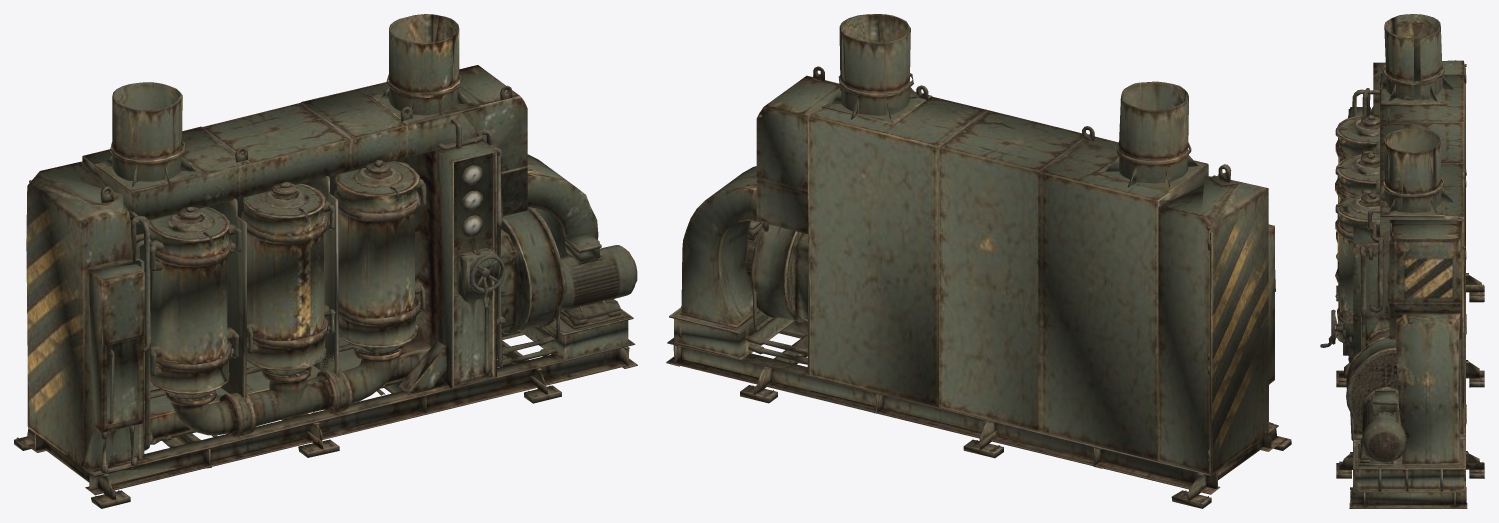
Rendered from reactor-air-filtration-unit.glb.
3 views of the same model, side by side, from view 1: azimuth 30°, elevation 25°; view 2: azimuth 150°, elevation 25°; view 3: azimuth 270°, elevation 25° (orthographic). The views are drawn at different scales.
Parts seen in each view (by area): view 1: reactor-air-filtration-unit; view 2: reactor-air-filtration-unit; view 3: reactor-air-filtration-unit.
Part boxes in pixels (bbox=[...]): reactor-air-filtration-unit: bbox=[14, 14, 637, 508]; reactor-air-filtration-unit: bbox=[666, 14, 1291, 508]; reactor-air-filtration-unit: bbox=[1320, 14, 1484, 508].
Bounding box in the file's own units: 3 × 1.84 × 0.9118.
Materials: 1 (1 with a texture image).
